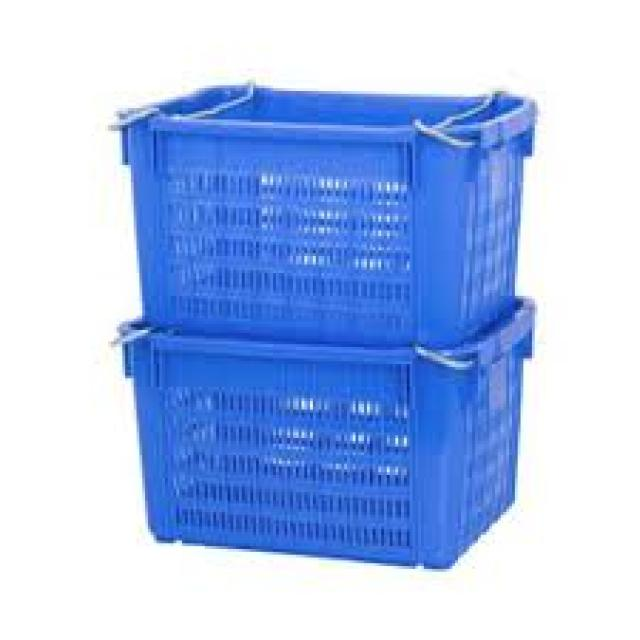basket: (125, 291, 557, 593), (112, 81, 539, 353)
